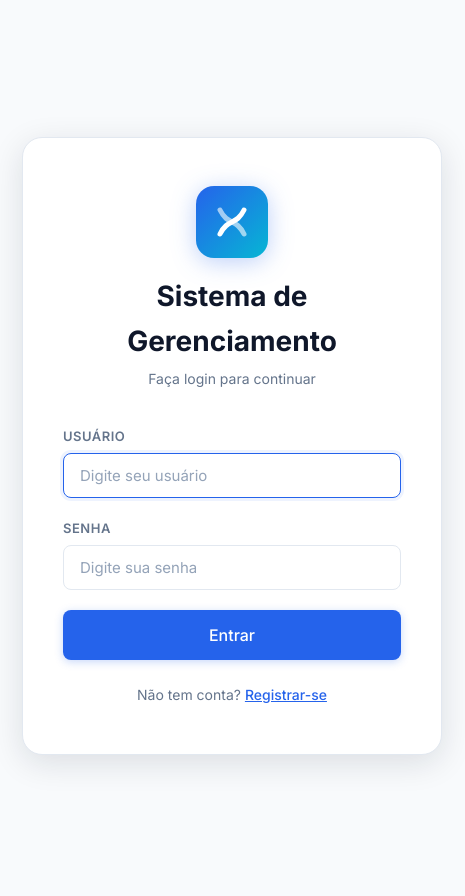
Test case: Login Page › shows error when register password is less than 8 chars
Click the button "Registrar-se" at (286, 694), box [245,686,327,703]
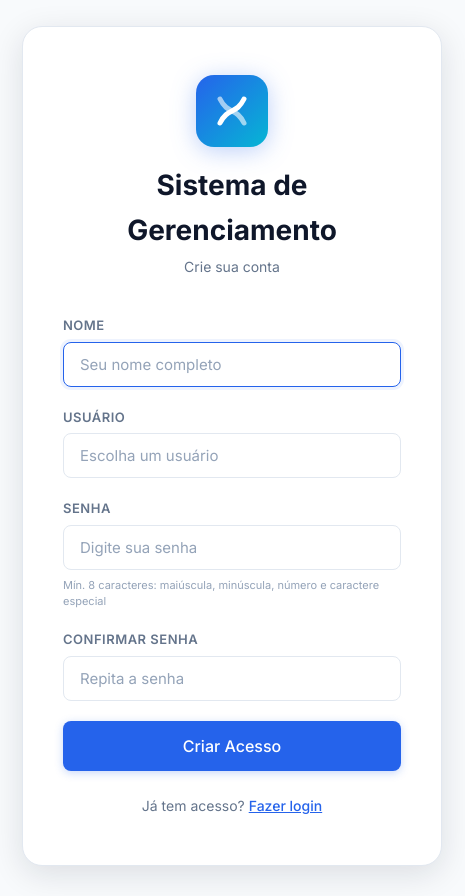
Type "Test User" into the field with placeholder "Seu nome completo" at (232, 364), box [63,342,401,387]
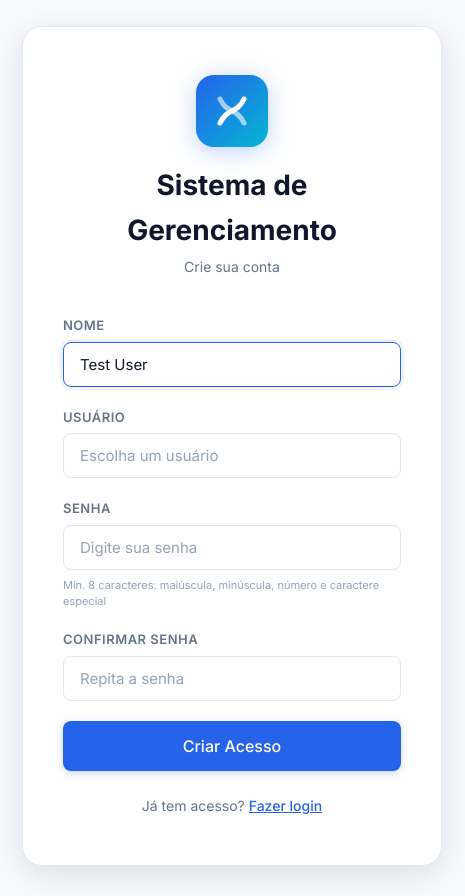
Type "testuser" into the field with placeholder "Escolha um usuário" at (232, 456), box [63,433,401,478]
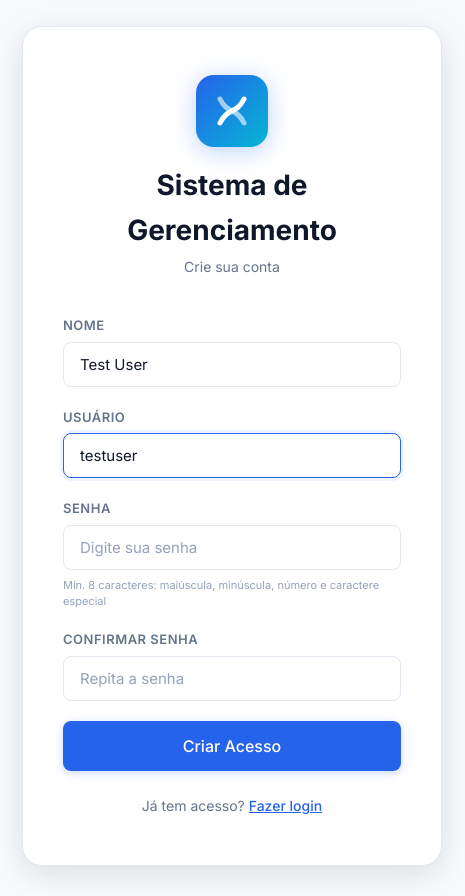
Type "Ab@1" into the password field with placeholder "Digite sua senha" at (232, 548), box [63,525,401,570]
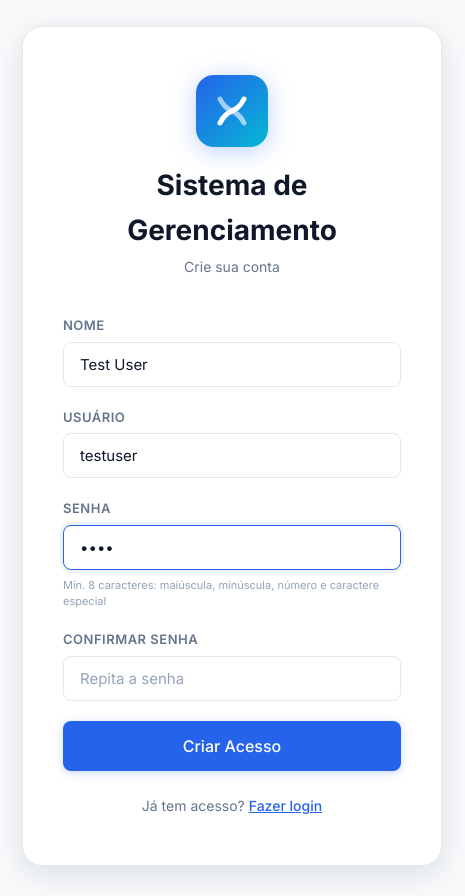
Type "Ab@1" into the password field with placeholder "Repita a senha" at (232, 678), box [63,656,401,701]
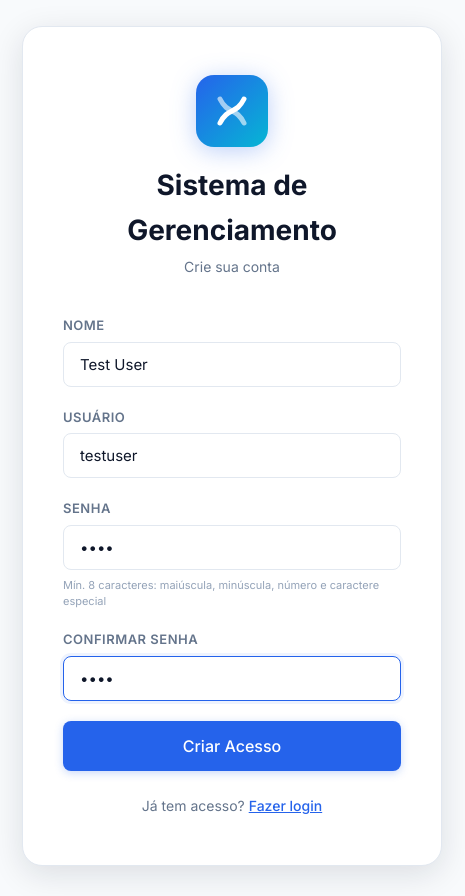
Click the button "Criar Acesso" at (232, 746), box [63,721,401,771]
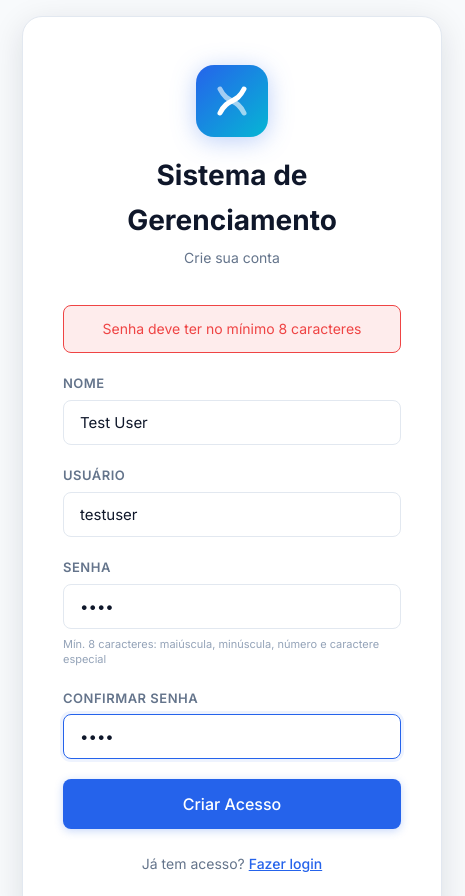
Now the text "Senha deve ter no mínimo 8 caracteres" is shown, box [63,305,401,353]
